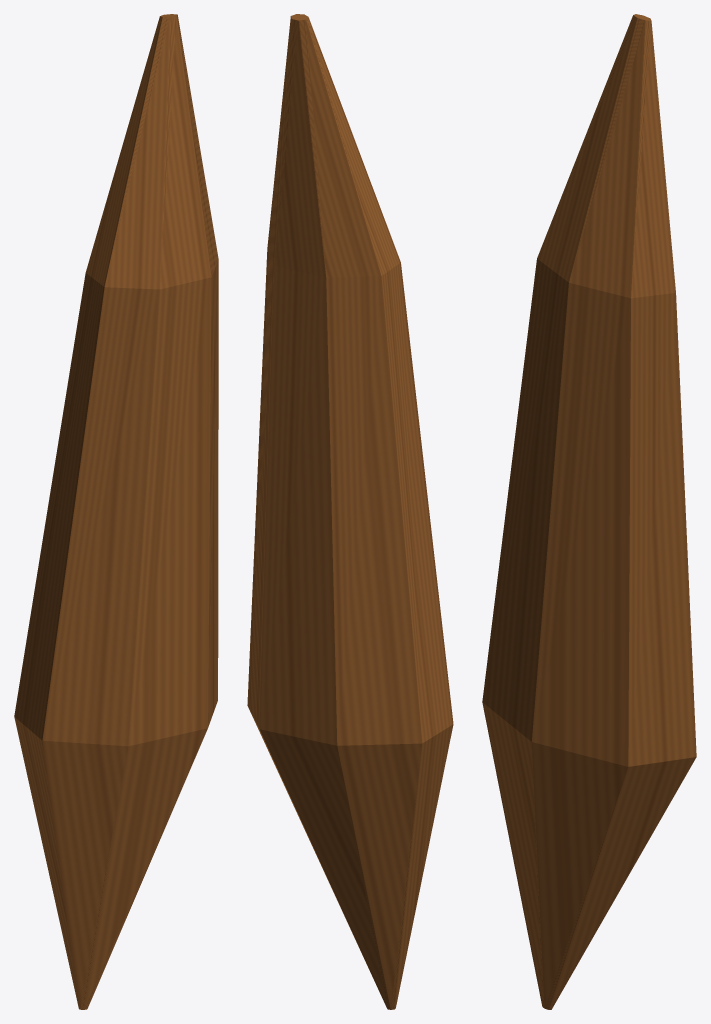
File: SM_HarvestOak_Splinter01.fbx
The picture shows the model from 3 angles, left to right: view 1: azimuth 30°, elevation 25°; view 2: azimuth 150°, elevation 25°; view 3: azimuth 330°, elevation 25°; orthographic projection. The views are drawn at different scales.
Visible parts, largest first — view 1: SM_HarvestOak_Splinter01; view 2: SM_HarvestOak_Splinter01; view 3: SM_HarvestOak_Splinter01.
Part boxes in pixels (x1,y1,x2,y2): SM_HarvestOak_Splinter01: (14,14,218,1009); SM_HarvestOak_Splinter01: (247,14,453,1009); SM_HarvestOak_Splinter01: (482,14,696,1009).
Bounding box in the file's own units: 0.0453 × 0.0277 × 0.2204.
1 material, 1 textured.
